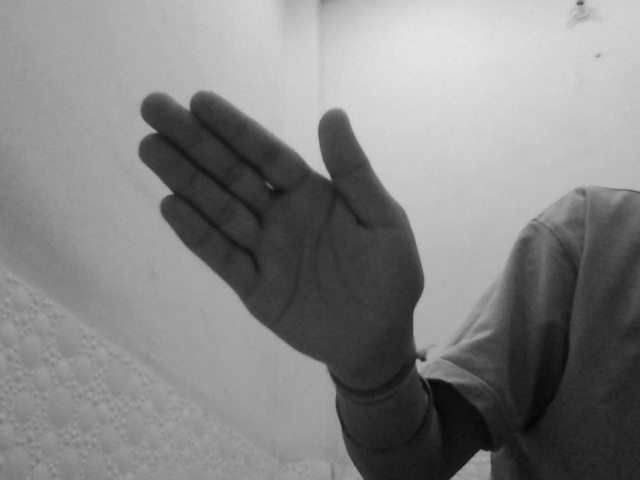Hello: (136, 87, 432, 398)
